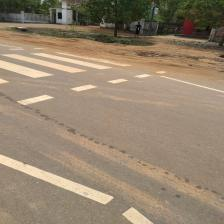crossing: (1, 53, 87, 74), (29, 52, 112, 70), (0, 60, 54, 78), (16, 94, 54, 106), (70, 84, 98, 92)
